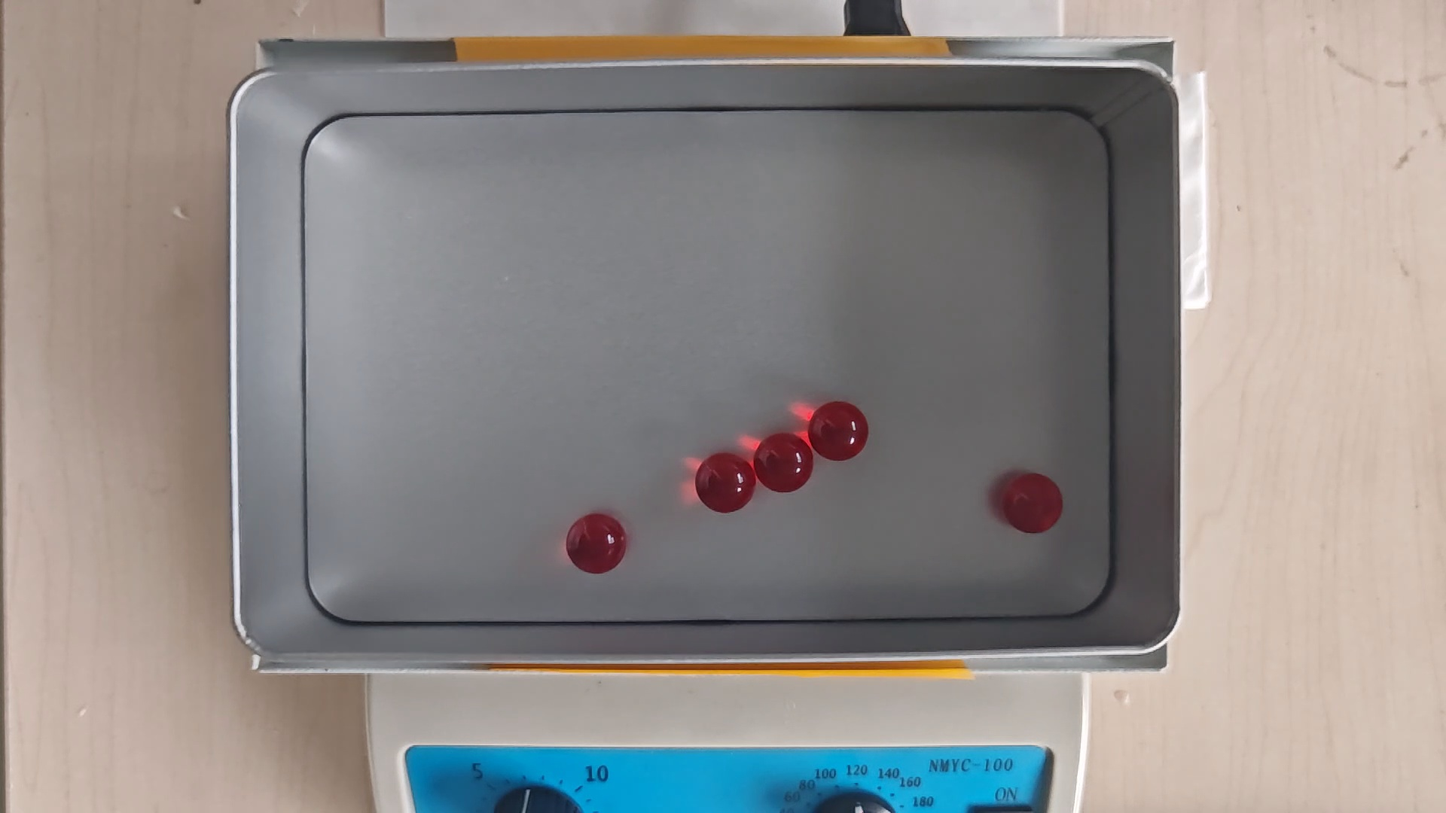ball: (694, 453, 757, 515), (754, 432, 815, 493), (807, 400, 868, 461), (565, 513, 627, 573), (1003, 473, 1062, 536)
container: (303, 105, 1112, 620)
